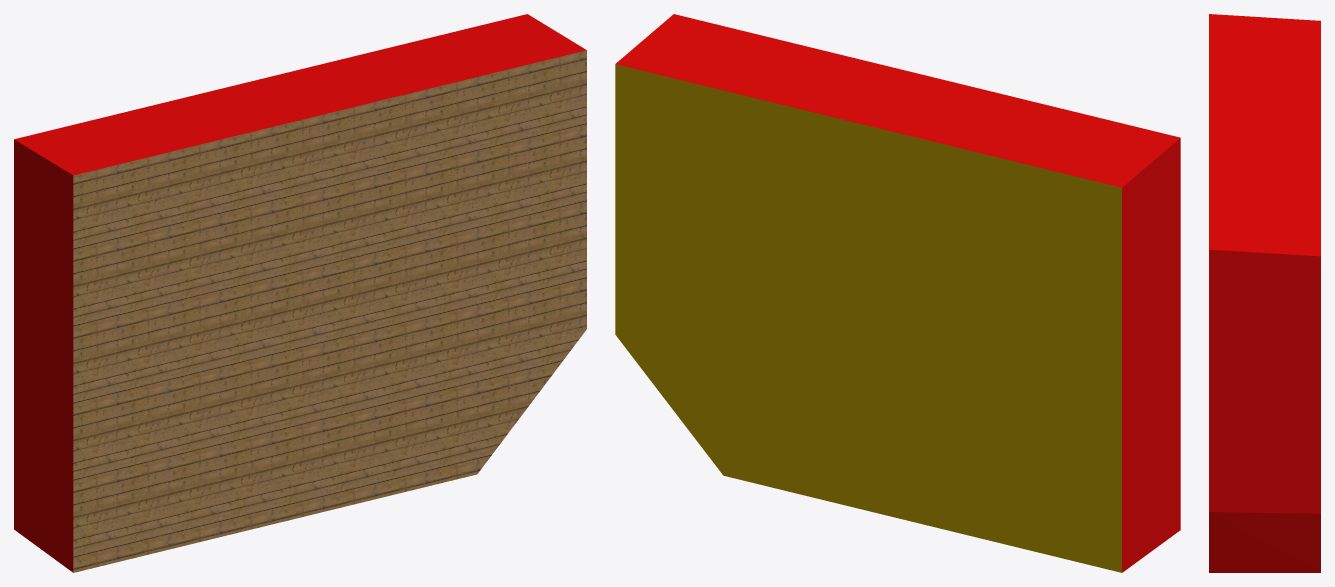
The model's file is raum_a03.dae.
3 views of the same model, side by side, from view 1: azimuth 30°, elevation 25°; view 2: azimuth 150°, elevation 25°; view 3: azimuth 270°, elevation 25° (orthographic). The views are drawn at different scales.
Parts seen in each view (by area): view 1: dielen, seiten; view 2: decke, seiten; view 3: seiten.
Part boxes in pixels (left/top/right/bottom): dielen: left=73, top=50, right=586, bottom=572; seiten: left=14, top=14, right=586, bottom=572; decke: left=615, top=64, right=1121, bottom=572; seiten: left=615, top=14, right=1180, bottom=572; seiten: left=1209, top=14, right=1320, bottom=572.
Size of the model in its own units: 998 by 200 by 738.
Materials: 3 (1 with a texture image).
